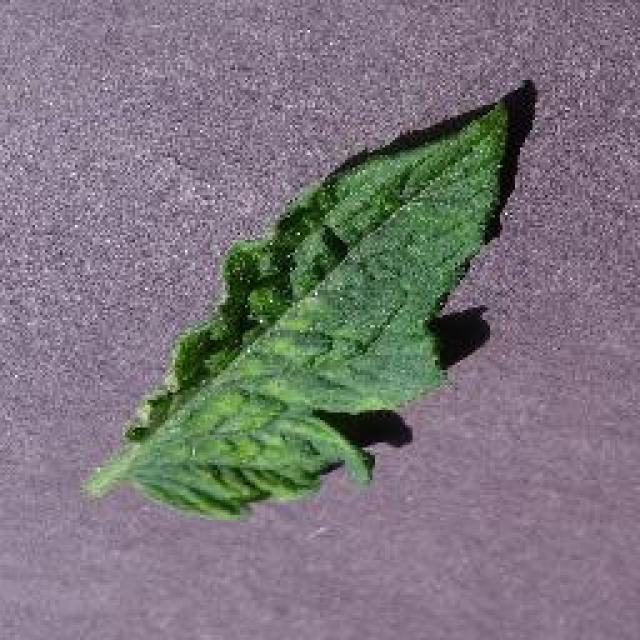Tomato___Tomato_mosaic_virus: (88, 95, 530, 515)
